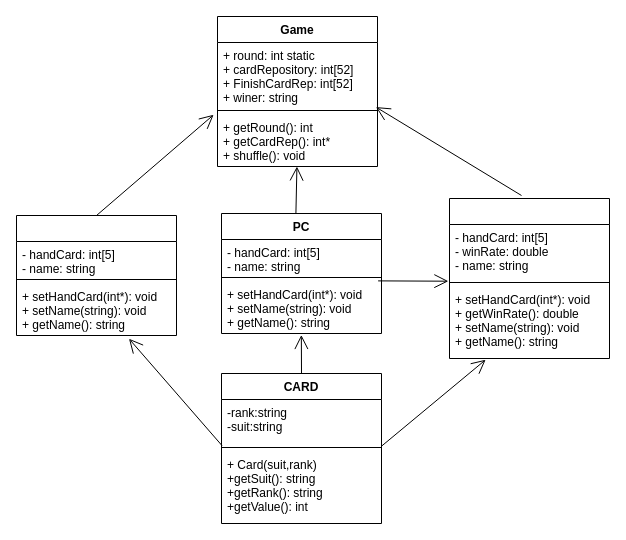
Image size: 626x540. Some labels were removed from this diagram. Each missing label, with the box of its shape:
Boss: (448, 198, 610, 358)
Player: (16, 214, 176, 336)
